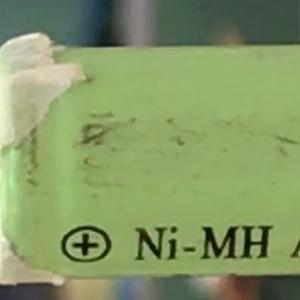NI-MH: (125, 216, 271, 270)
